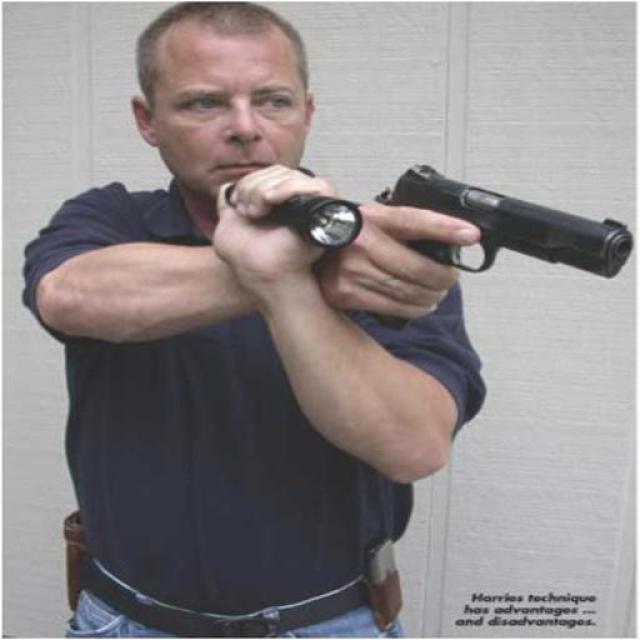pistol: (345, 163, 629, 338)
